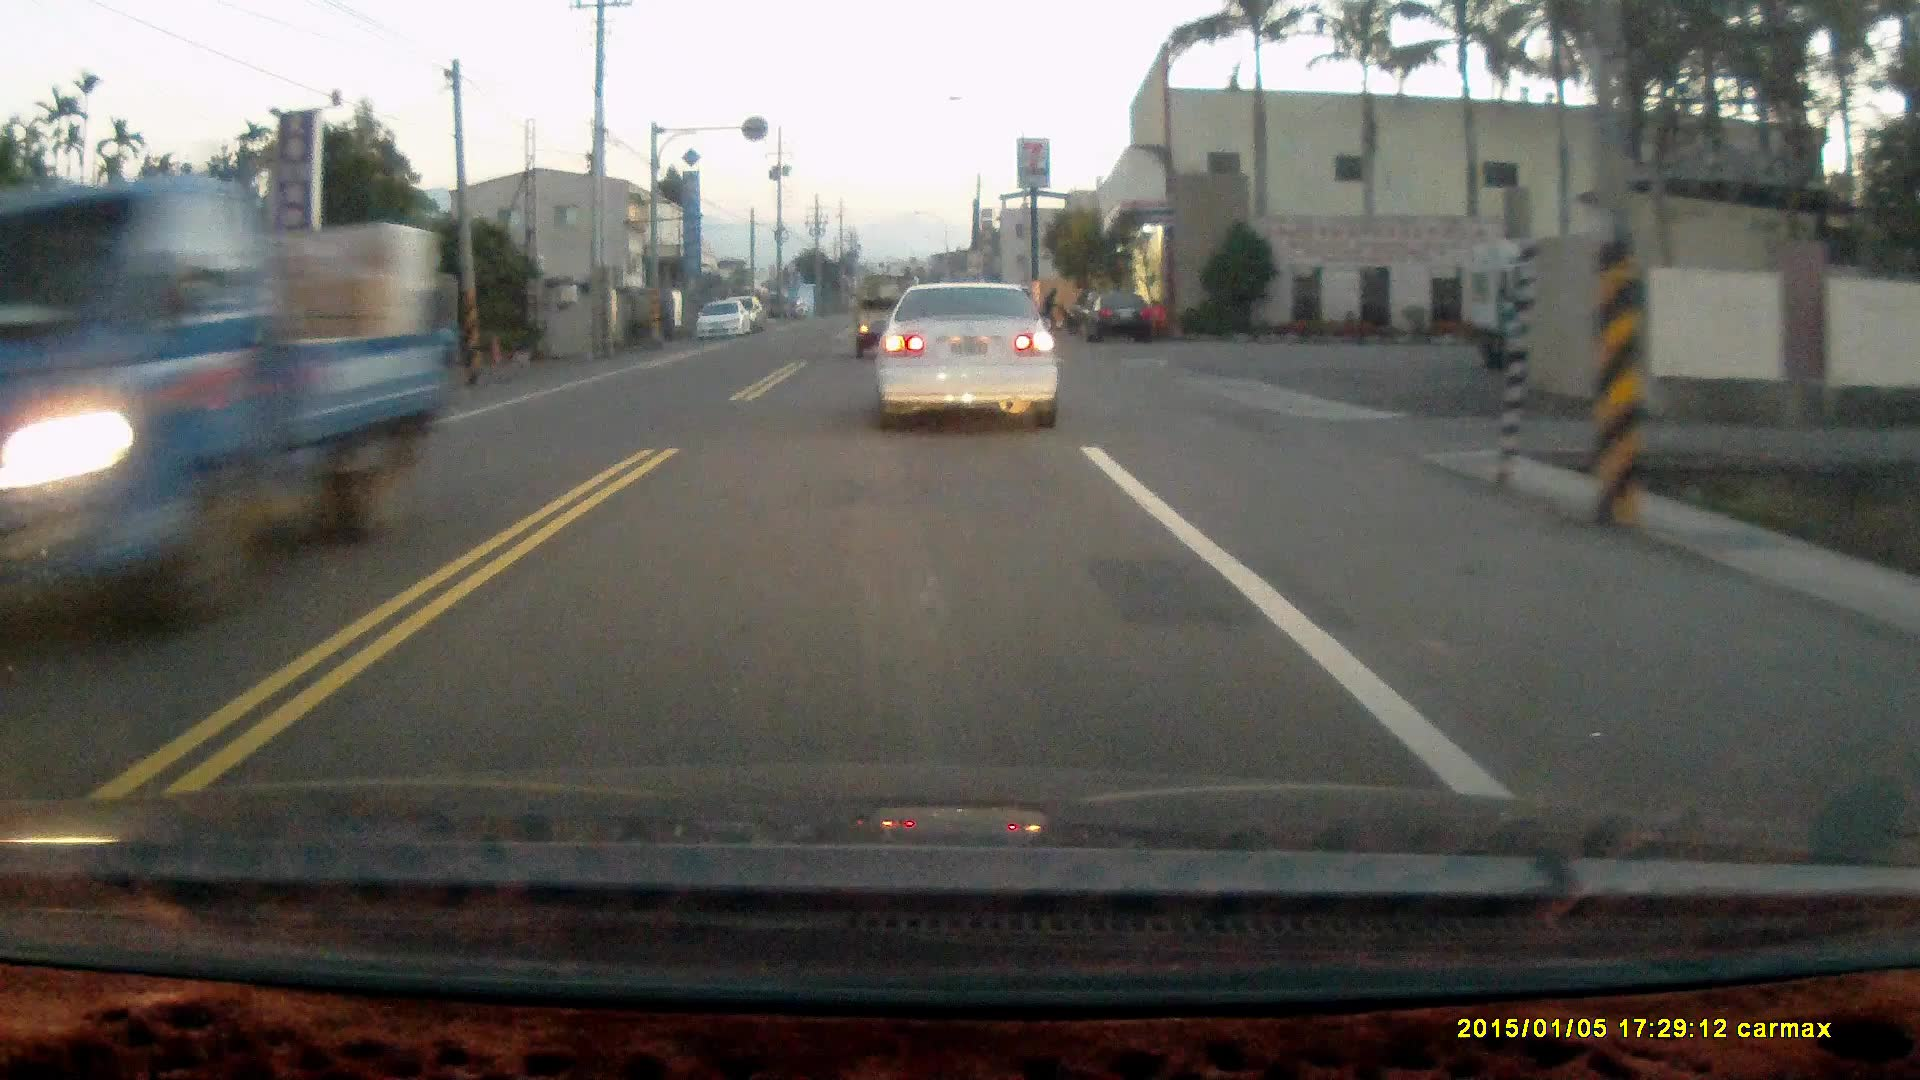rider: (1033, 284, 1077, 335)
vehicle: (1, 164, 447, 646), (882, 281, 1067, 433), (856, 275, 930, 363), (1081, 282, 1152, 339), (697, 299, 753, 344)
